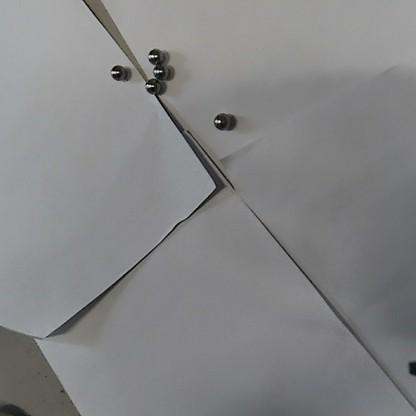ironball: (109, 63, 126, 80), (213, 112, 228, 129), (144, 77, 159, 94), (148, 47, 161, 62), (153, 64, 165, 77)
